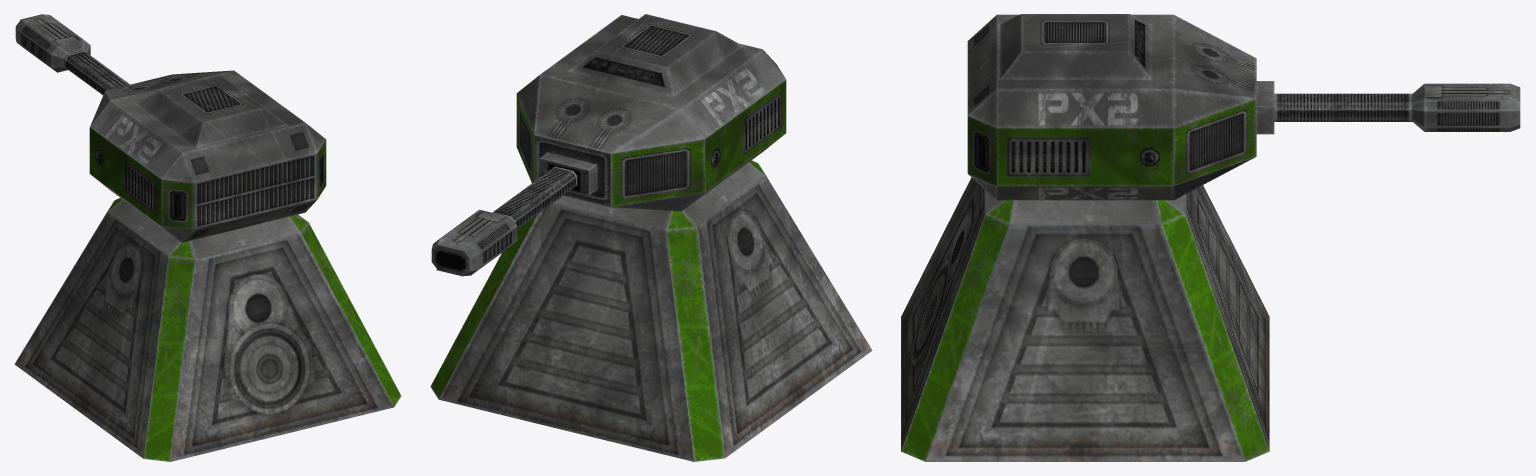
Rendered from LP_Turret.dae.
3 views of the same model, side by side, from view 1: azimuth 30°, elevation 25°; view 2: azimuth 150°, elevation 25°; view 3: azimuth 270°, elevation 25° (orthographic). The views are drawn at different scales.
Visible parts, largest first — view 1: T_Base, T-Headbase, Canon; view 2: T_Base, T-Headbase, Canon, SHOOTBASE; view 3: T_Base, T-Headbase, Canon.
Boxes of the visible parts, left/top/right/bottom form: T_Base: left=14, top=198, right=401, bottom=461; T-Headbase: left=89, top=70, right=326, bottom=242; Canon: left=15, top=14, right=129, bottom=94; T_Base: left=430, top=160, right=872, bottom=461; T-Headbase: left=516, top=14, right=786, bottom=211; Canon: left=431, top=166, right=577, bottom=275; SHOOTBASE: left=436, top=245, right=463, bottom=276; T_Base: left=901, top=177, right=1269, bottom=461; T-Headbase: left=967, top=14, right=1274, bottom=200; Canon: left=1274, top=83, right=1520, bottom=131.
Bounding box in the file's own units: 150 × 158 × 253.
